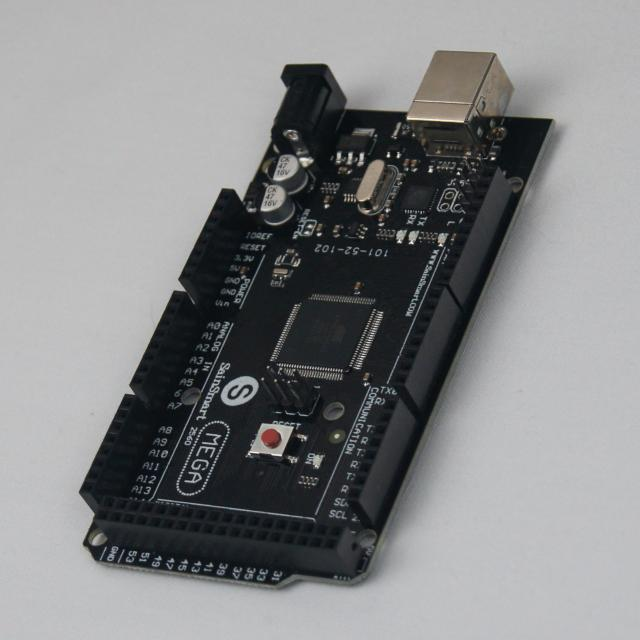Arduino Mega 2560 -Black-: (82, 53, 550, 587)
